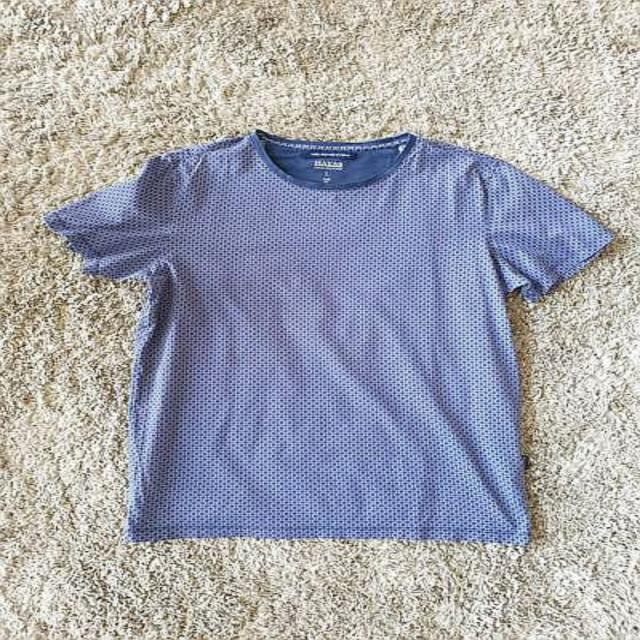T_SHIRT: (39, 122, 632, 555)
